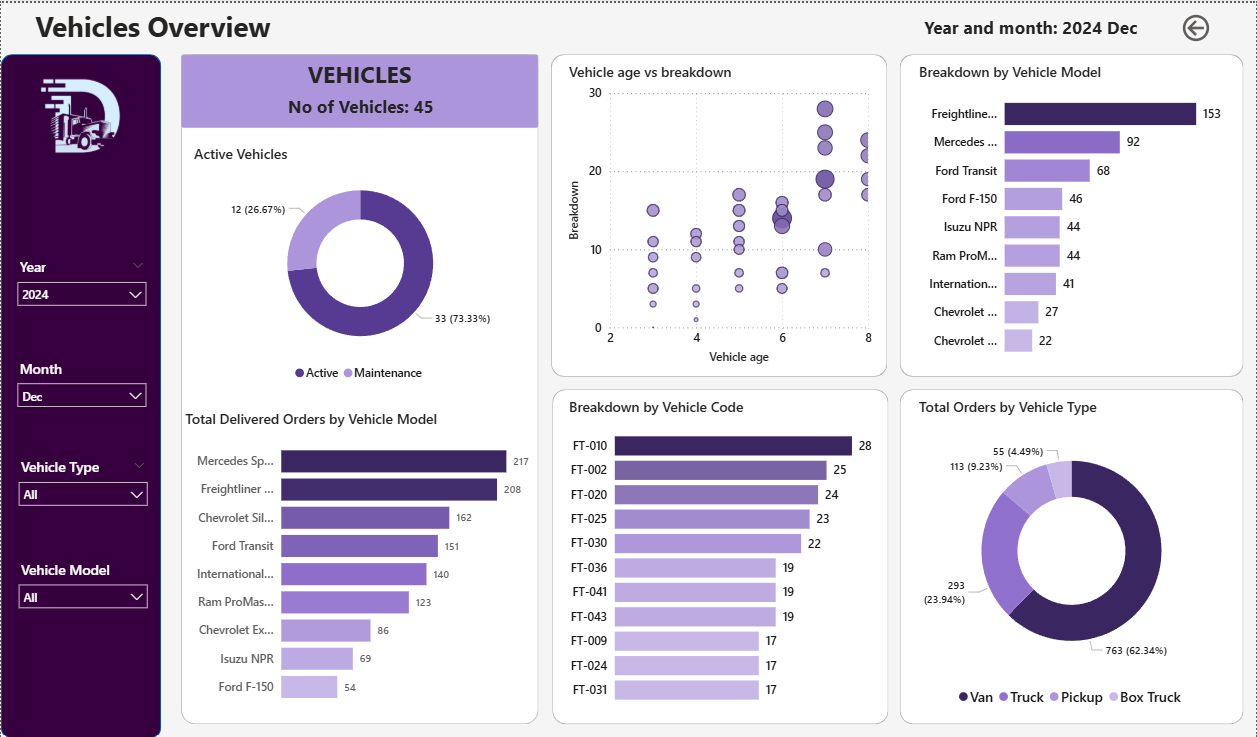

The page's visual inventory and layout, read from the dashboard file:
{"tool":"powerbi","page":{"name":"Vehicles Overview","canvas":[1450,850],"ordinal":3},"visuals":[{"type":"shape","box":[0,59.2,184.8,791.1],"z":0},{"type":"textbox","box":[0,0,350.8,59.2],"z":1000},{"type":"slicer","fields":{"Values":["Dim_date.Year"]},"box":[8.7,288.7,168.9,80.8],"z":2000},{"type":"slicer","fields":{"Values":["Dim_date.Month"]},"box":[8.7,405.7,168.9,80.8],"z":3000},{"type":"shape","box":[207.9,59.2,412.9,773.8],"z":4000},{"type":"shape","box":[207.9,59.2,412.9,85.2],"z":5000},{"type":"textbox","box":[324.8,59.2,179,56.3],"z":6000},{"type":"card","fields":{"Values":["#measures.No of Vehicles"]},"box":[316.2,102.5,199.2,37.5],"z":7000},{"type":"barChart","fields":{"Category":["Vehicles.Vehicle Model"],"Y":["#measures.Total Delivered Orders"]},"box":[207.9,469.2,412.9,352.2],"z":8000},{"type":"donutChart","title":"Active Vehicles ","fields":{"Category":["Vehicles.Vehicle Status"],"Y":["CountNonNull(Vehicles.Vehicle ID)"]},"box":[218,163.1,394.1,282.9],"z":9000},{"type":"image","box":[26.4,73.1,133.7,121.2],"z":10000},{"type":"shape","box":[635.2,59.2,388.3,372.5],"z":11000},{"type":"shape","box":[1038,59.2,397,372.5],"z":12000},{"type":"scatterChart","title":"Vehicle age vs breakdown","fields":{"X":["Vehicles.Vehicle age"],"Y":["Vehicles.Breakdown"],"Size":["Sum(Vehicles.Breakdown)1"]},"box":[651.1,67.9,359.5,353.7],"z":13000},{"type":"shape","box":[636.6,446.1,388.3,386.9],"z":14000},{"type":"shape","box":[1038,446.1,397,386.9],"z":15000},{"type":"barChart","title":"Breakdown by Vehicle Code","fields":{"Category":["Vehicles.Vehicle Code"],"Y":["Sum(Vehicles.Breakdown)"]},"box":[651.1,454.7,359.5,366.7],"z":16000},{"type":"barChart","title":"Breakdown by Vehicle Model","fields":{"Category":["Vehicles.Vehicle Model"],"Y":["Sum(Vehicles.Breakdown)"]},"box":[1055.3,67.9,362.3,353.7],"z":17000},{"type":"donutChart","fields":{"Category":["Orders.Vehicle Type"],"Y":["#measures.Total Orders"]},"box":[1055.3,454.7,362.3,366.7],"z":18000},{"type":"slicer","fields":{"Values":["Orders.Vehicle Type"]},"box":[10.1,519.7,168.9,80.8],"z":19000},{"type":"slicer","fields":{"Values":["Vehicles.Vehicle Model"]},"box":[10.1,638.1,168.9,80.8],"z":20000},{"type":"card","fields":{"Values":["#measures.selected_year_and_month"]},"box":[990.3,11.5,398.4,37.5],"z":21000},{"type":"actionButton","box":[1359.9,8.7,75.1,40.4],"z":22000}]}

Visuals, with their boxes in screenshot pixels (x1, y1, x2, y2), scaled from the page's 1450x850 canvas onto the 1257x737 screenshot:
shape: <bbox>0, 51, 160, 736</bbox>
textbox: <bbox>0, 0, 304, 51</bbox>
slicer - Dim_date.Year: <bbox>8, 250, 154, 320</bbox>
slicer - Dim_date.Month: <bbox>8, 352, 154, 422</bbox>
shape: <bbox>180, 51, 538, 722</bbox>
shape: <bbox>180, 51, 538, 125</bbox>
textbox: <bbox>282, 51, 437, 100</bbox>
card - #measures.No of Vehicles: <bbox>274, 89, 447, 121</bbox>
barChart - Vehicles.Vehicle Model x #measures.Total Delivered Orders: <bbox>180, 407, 538, 712</bbox>
"Active Vehicles " donutChart: <bbox>189, 141, 531, 387</bbox>
image: <bbox>23, 63, 139, 168</bbox>
shape: <bbox>551, 51, 887, 374</bbox>
shape: <bbox>900, 51, 1244, 374</bbox>
"Vehicle age vs breakdown" scatterChart: <bbox>564, 59, 876, 366</bbox>
shape: <bbox>552, 387, 888, 722</bbox>
shape: <bbox>900, 387, 1244, 722</bbox>
"Breakdown by Vehicle Code" barChart: <bbox>564, 394, 876, 712</bbox>
"Breakdown by Vehicle Model" barChart: <bbox>915, 59, 1229, 366</bbox>
donutChart - Orders.Vehicle Type x #measures.Total Orders: <bbox>915, 394, 1229, 712</bbox>
slicer - Orders.Vehicle Type: <bbox>9, 451, 155, 521</bbox>
slicer - Vehicles.Vehicle Model: <bbox>9, 553, 155, 623</bbox>
card - #measures.selected_year_and_month: <bbox>858, 10, 1204, 42</bbox>
actionButton: <bbox>1179, 8, 1244, 43</bbox>
